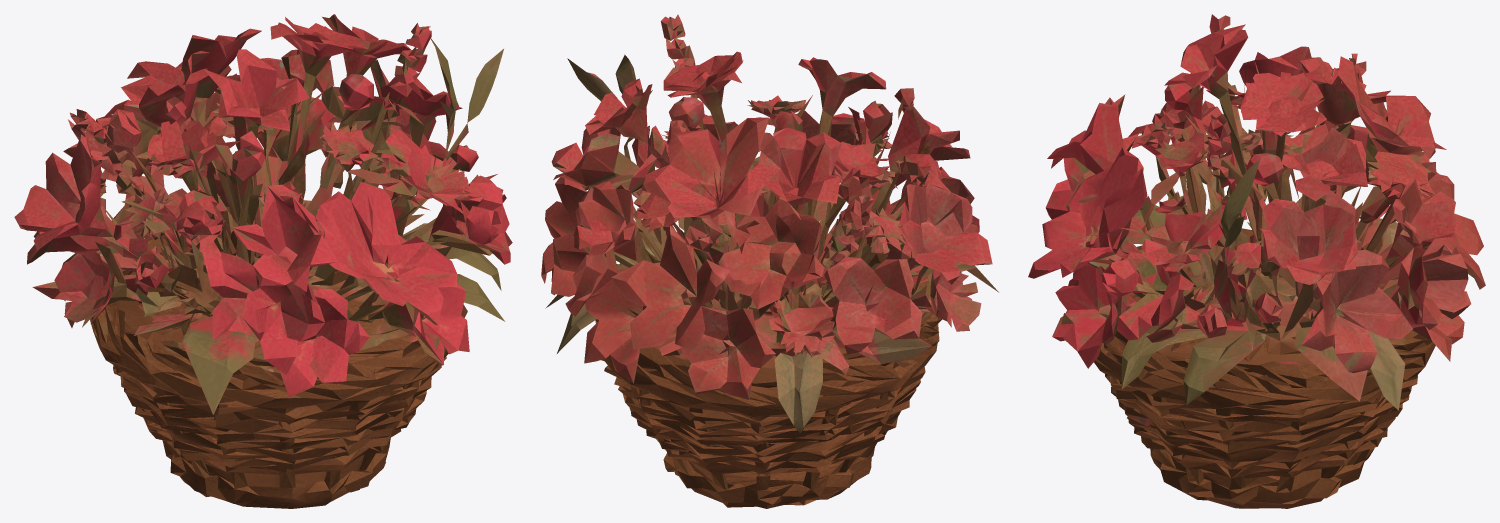
File: DEC_FLOWER_001.glb
3 views of the same model, side by side, from view 1: azimuth 30°, elevation 25°; view 2: azimuth 150°, elevation 25°; view 3: azimuth 270°, elevation 25° (orthographic). The views are drawn at different scales.
Size of the model in its own units: 1.67 by 1.52 by 1.5.
1 material, 1 textured.
